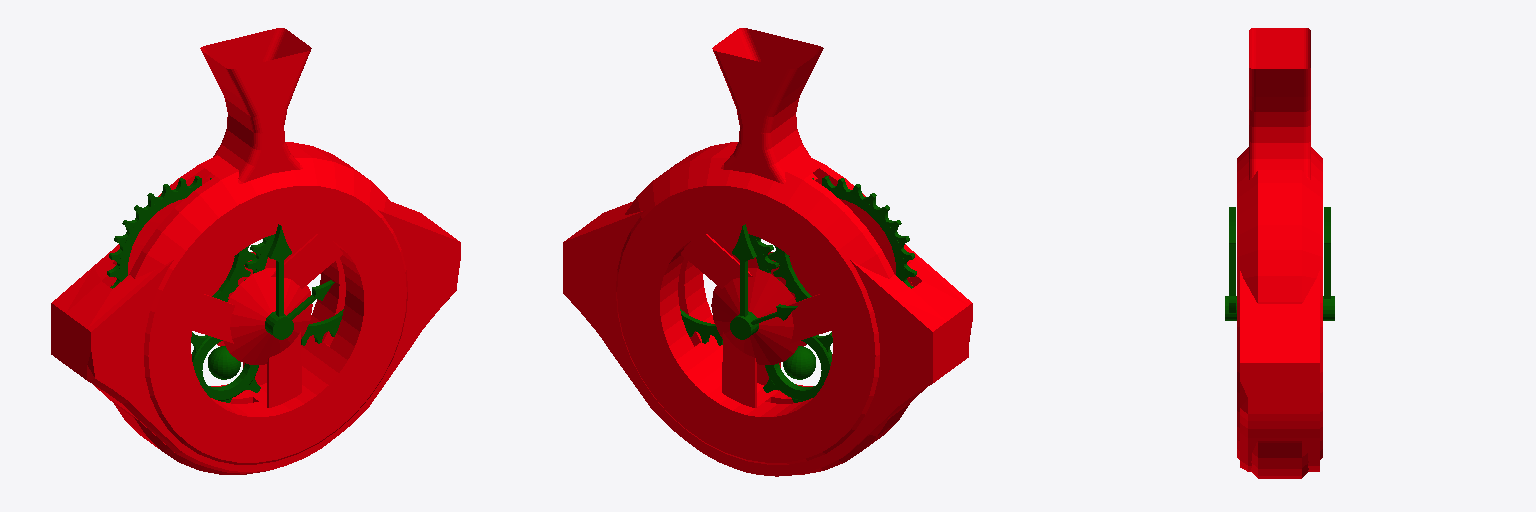
The model's file is Clock.obj.
3 views of the same model, side by side, from view 1: azimuth 30°, elevation 25°; view 2: azimuth 150°, elevation 25°; view 3: azimuth 270°, elevation 25° (orthographic).
Parts seen in each view (by area): view 1: Hanger Clock_Cage Clock_Base, Hanger Clock_Cage, Hanger, Hanger Clock_Cage Clock_Base Arms_for_Center Center_Hands_Holder, Hanger Clock_Cage Clock_Base Arms_for_Center, Hanger Clock_Cage Clock_Base Big_Gear_Right, Hanger Clock_Cage Clock_Base Small_Gear, Hanger Clock_Cage Clock_Base Big_Gear_Left, Hanger Clock_Cage Clock_Base Small_Gear Small_Gear_Center; view 2: Hanger Clock_Cage Clock_Base, Hanger Clock_Cage, Hanger, Hanger Clock_Cage Clock_Base Arms_for_Center Center_Hands_Holder, Hanger Clock_Cage Clock_Base Arms_for_Center, Hanger Clock_Cage Clock_Base Big_Gear_Right, Hanger Clock_Cage Clock_Base Small_Gear, Hanger Clock_Cage Clock_Base Big_Gear_Left, Hanger Clock_Cage Clock_Base Small_Gear Small_Gear_Center; view 3: Hanger Clock_Cage Clock_Base, Hanger Clock_Cage, Hanger, Hanger Clock_Cage Clock_Base Arms_for_Center Center_Hands_Holder.
Boxes of the visible parts, <box> form: Hanger Clock_Cage Clock_Base: <box>111,142,407,474</box>; Hanger Clock_Cage: <box>51,201,460,473</box>; Hanger: <box>200,28,311,183</box>; Hanger Clock_Cage Clock_Base Arms_for_Center Center_Hands_Holder: <box>205,224,334,364</box>; Hanger Clock_Cage Clock_Base Arms_for_Center: <box>192,231,342,407</box>; Hanger Clock_Cage Clock_Base Big_Gear_Right: <box>107,176,255,301</box>; Hanger Clock_Cage Clock_Base Small_Gear: <box>191,332,260,402</box>; Hanger Clock_Cage Clock_Base Big_Gear_Left: <box>244,234,343,345</box>; Hanger Clock_Cage Clock_Base Small_Gear Small_Gear_Center: <box>208,346,240,379</box>; Hanger Clock_Cage Clock_Base: <box>616,142,912,474</box>; Hanger Clock_Cage: <box>563,201,972,476</box>; Hanger: <box>712,28,823,183</box>; Hanger Clock_Cage Clock_Base Arms_for_Center Center_Hands_Holder: <box>711,224,818,364</box>; Hanger Clock_Cage Clock_Base Arms_for_Center: <box>681,231,831,407</box>; Hanger Clock_Cage Clock_Base Big_Gear_Right: <box>768,176,916,301</box>; Hanger Clock_Cage Clock_Base Small_Gear: <box>763,332,832,402</box>; Hanger Clock_Cage Clock_Base Big_Gear_Left: <box>680,234,779,345</box>; Hanger Clock_Cage Clock_Base Small_Gear Small_Gear_Center: <box>783,346,815,379</box>; Hanger Clock_Cage Clock_Base: <box>1237,147,1322,478</box>; Hanger Clock_Cage: <box>1240,271,1319,471</box>; Hanger: <box>1249,28,1310,179</box>; Hanger Clock_Cage Clock_Base Arms_for_Center Center_Hands_Holder: <box>1225,207,1334,320</box>.
Size of the model in its own units: 2.51 by 2.69 by 0.6455.